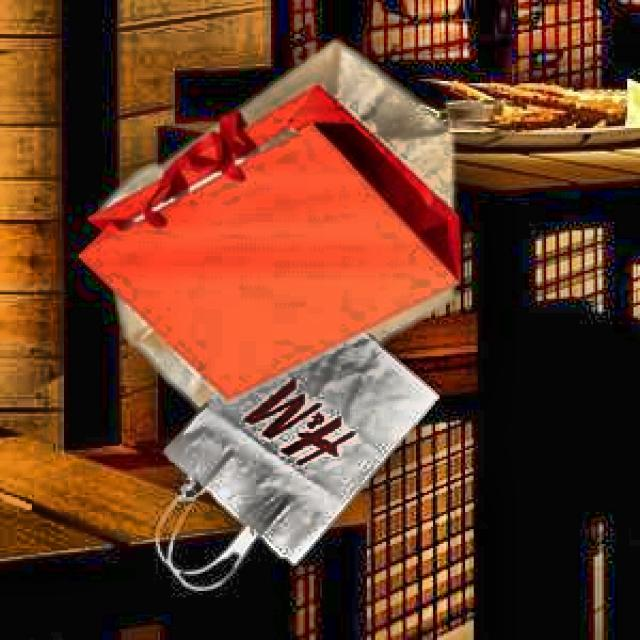Paper-bag: (92, 35, 466, 420), (72, 78, 470, 374), (135, 300, 444, 578)
